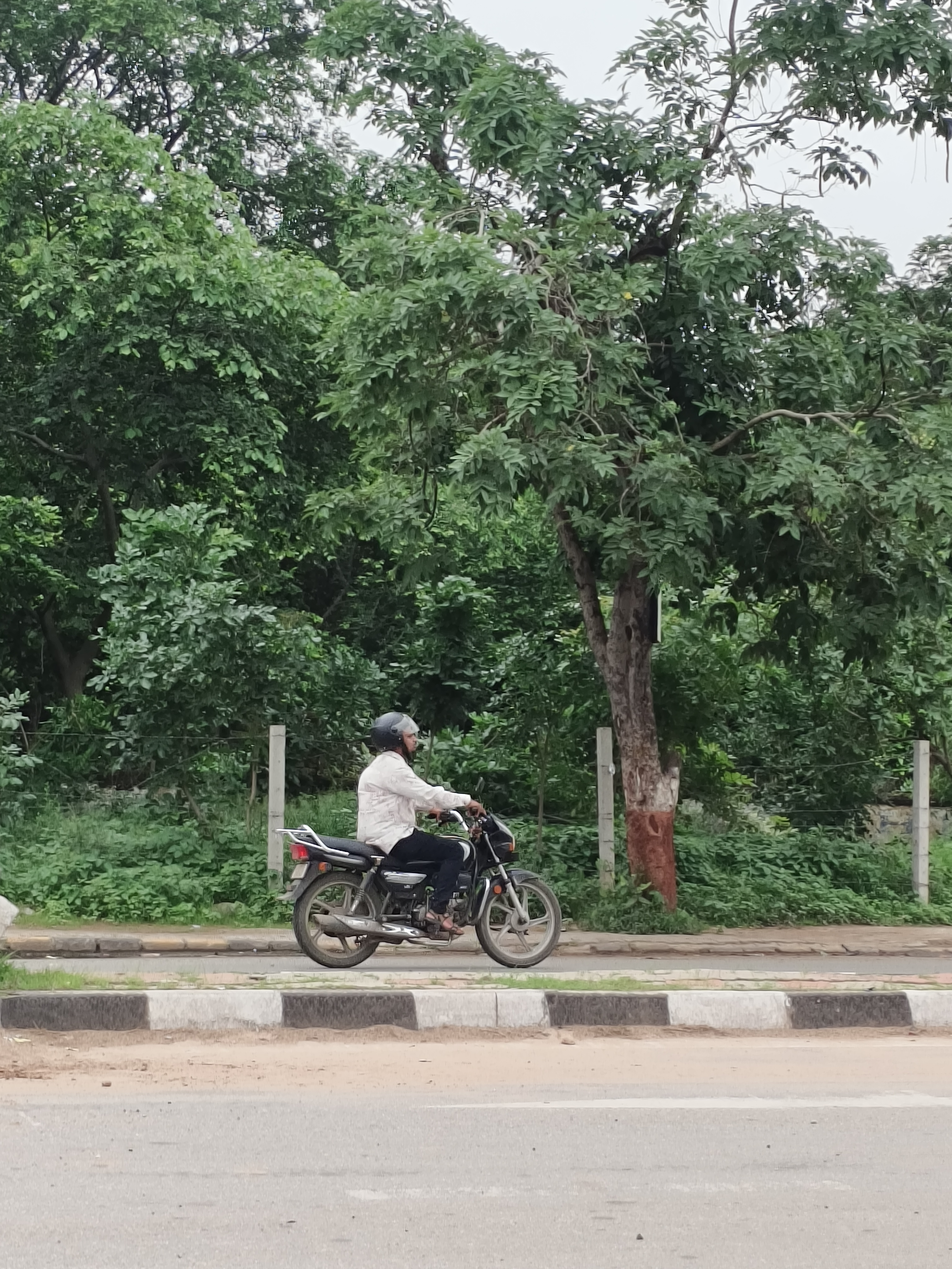BikeWithRider: (263, 691, 590, 969)
Helmet: (354, 694, 434, 771)
